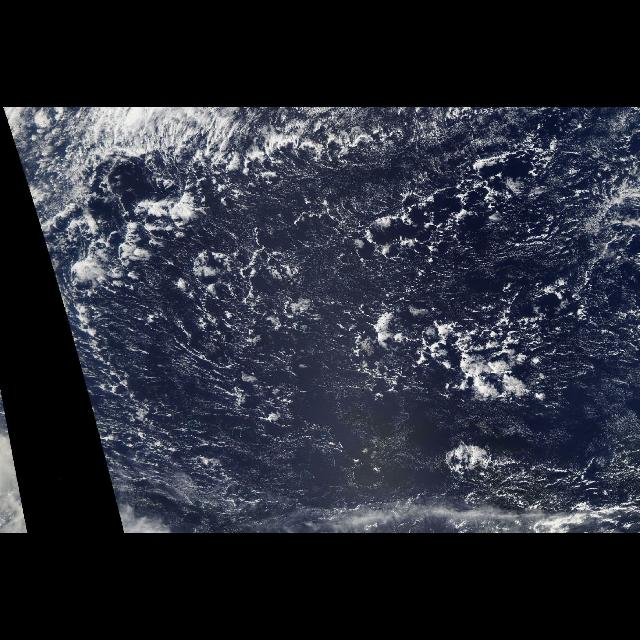Gravel: (167, 193, 419, 427)
